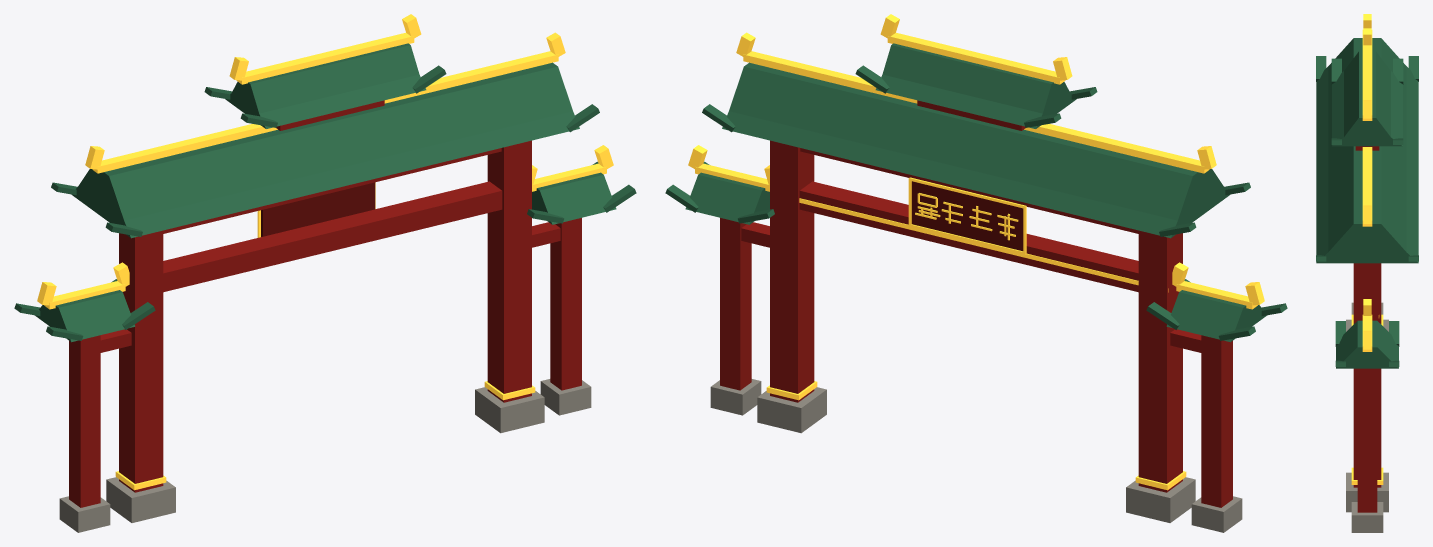
File: gate.glb
3 views of the same model, side by side, from view 1: azimuth 30°, elevation 25°; view 2: azimuth 150°, elevation 25°; view 3: azimuth 270°, elevation 25° (orthographic). The views are drawn at different scales.
Parts seen in each view (by area): view 1: gate; view 2: gate; view 3: gate.
Boxes of the visible parts, <box> form: gate: <box>14,14,636,532</box>; gate: <box>665,14,1287,532</box>; gate: <box>1316,14,1418,532</box>.
Size of the model in its own units: 14.59 by 10.16 by 2.62.
